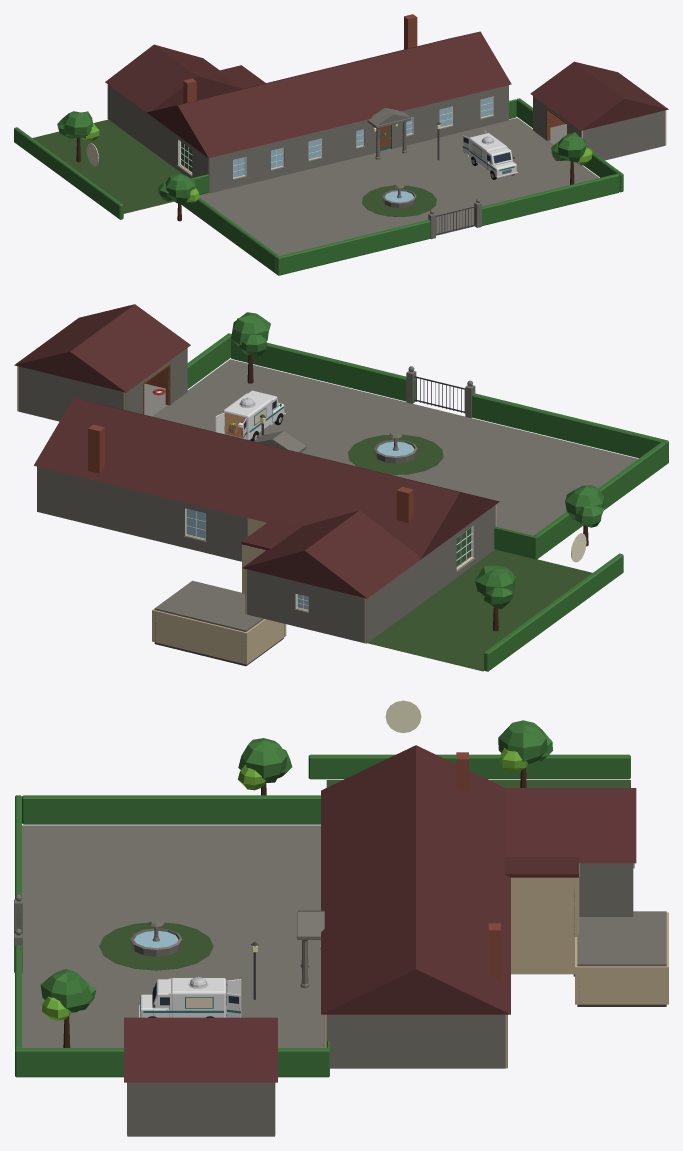
Rendered from house_c.glb.
The picture shows the model from 3 angles, top to bottom: view 1: azimuth 30°, elevation 25°; view 2: azimuth 150°, elevation 25°; view 3: azimuth 270°, elevation 25°; orthographic projection. The views are drawn at different scales.
Parts seen in each view (by area): view 1: floor_drive, ceiling_roof_main, floor_garden_w, ceiling_roof_coach, ceiling_roof_kitchen, hedge_s_w, hedge_s_e, wall_coach_s_0_n, garden_hedge_w, hedge_w, wall_w_kitchen_0_n, van_body (+21 smaller); view 2: ceiling_roof_main, floor_drive, floor_garden_w, ceiling_roof_kitchen, ceiling_roof_coach, wall_n_study_0_p, hedge_s_w, hedge_s_e, wall_coach_n_0_p, garden_hedge_w, ceiling_cellar, wall_cellar_n_0 (+23 smaller); view 3: floor_drive, ceiling_roof_main, ceiling_roof_coach, wall_e_study_0_p, ceiling_roof_kitchen, hedge_w, wall_coach_e_0_p, wall_stair_e_0, garden_hedge_w, ceiling_cellar, wall_cellar_e_0, hedge_e_s (+15 smaller).
Boxes of the visible parts, x1,y1,x2,y2 form: floor_drive: (199,118,598,255); ceiling_roof_main: (146,31,511,157); floor_garden_w: (32,119,208,213); ceiling_roof_coach: (530,61,668,130); ceiling_roof_kitchen: (105,44,241,112); hedge_s_w: (276,219,430,275); hedge_s_e: (482,173,619,225); wall_coach_s_0_n: (583,110,664,165); garden_hedge_w: (14,127,123,219); hedge_w: (181,198,278,273); wall_w_kitchen_0_n: (107,84,149,149); van_body: (467,133,517,179); ceiling_roof_main: (34,398,499,559); floor_drive: (152,359,637,535); floor_garden_w: (367,550,592,671); ceiling_roof_kitchen: (242,510,419,598); ceiling_roof_coach: (14,304,190,392); wall_n_study_0_p: (37,466,143,537); hedge_s_w: (472,393,668,464); hedge_s_e: (231,336,415,401); wall_coach_n_0_p: (19,366,123,421); garden_hedge_w: (484,553,623,671); ceiling_cellar: (154,580,263,631); wall_cellar_n_0: (153,610,245,664); floor_drive: (22,825,323,1047); ceiling_roof_main: (321,745,510,1014); ceiling_roof_coach: (124,1017,277,1082); wall_e_study_0_p: (326,1014,505,1068); ceiling_roof_kitchen: (505,788,636,863); hedge_w: (22,795,320,824); wall_coach_e_0_p: (127,1082,274,1136); wall_stair_e_0: (511,877,577,974); garden_hedge_w: (308,754,630,779); ceiling_cellar: (577,911,666,966); wall_cellar_e_0: (575,965,668,1004); hedge_e_s: (15,1048,123,1077).
Bounding box in the file's own units: 47.7 × 9.6 × 36.58.
1 material, 1 textured.
